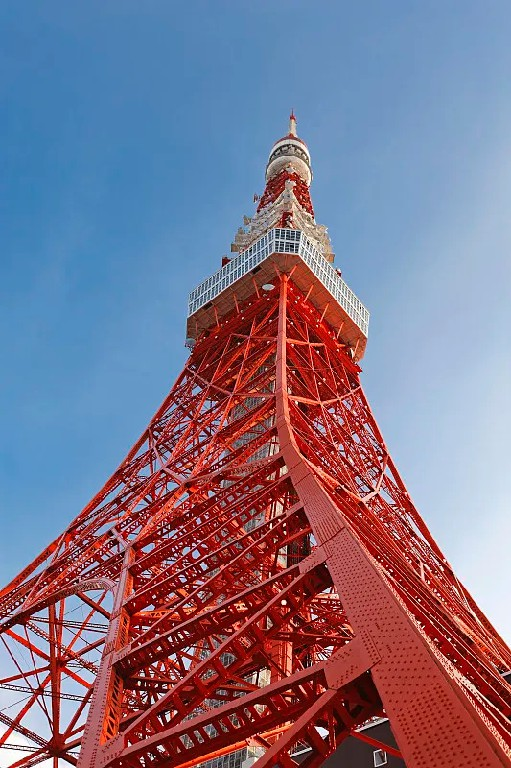Tokyo: (1, 99, 509, 766)
